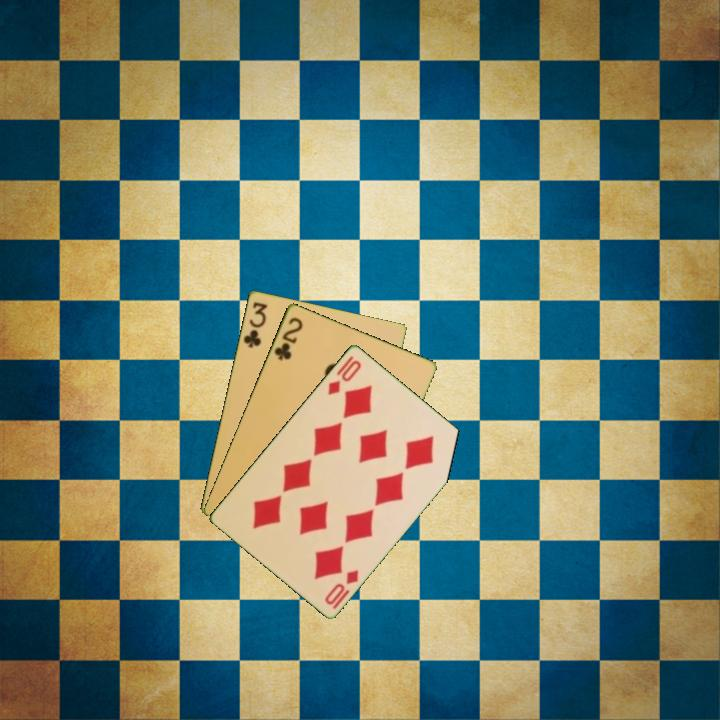10d: (324, 356, 364, 398), (321, 566, 361, 607)
2c: (270, 313, 306, 363)
3c: (240, 298, 270, 350)
